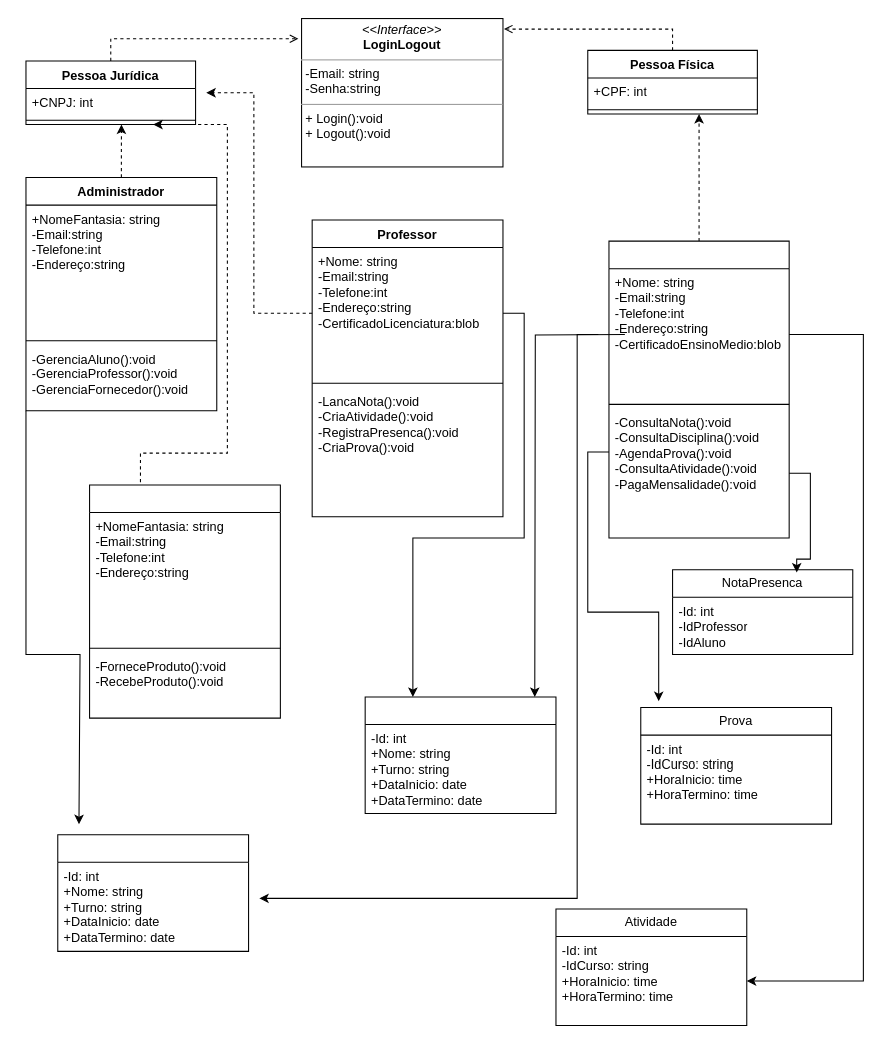
The diagram is 890 pixels wide and 1047 high, and some of its shapes have lost their labels. Here are the shapes that lost their labels. From the top down, the box of each, then its label:
(608, 240, 789, 538): Aluno
(89, 484, 280, 718): Fornecedor
(364, 696, 556, 814): Curso
(57, 834, 249, 951): Boleto
